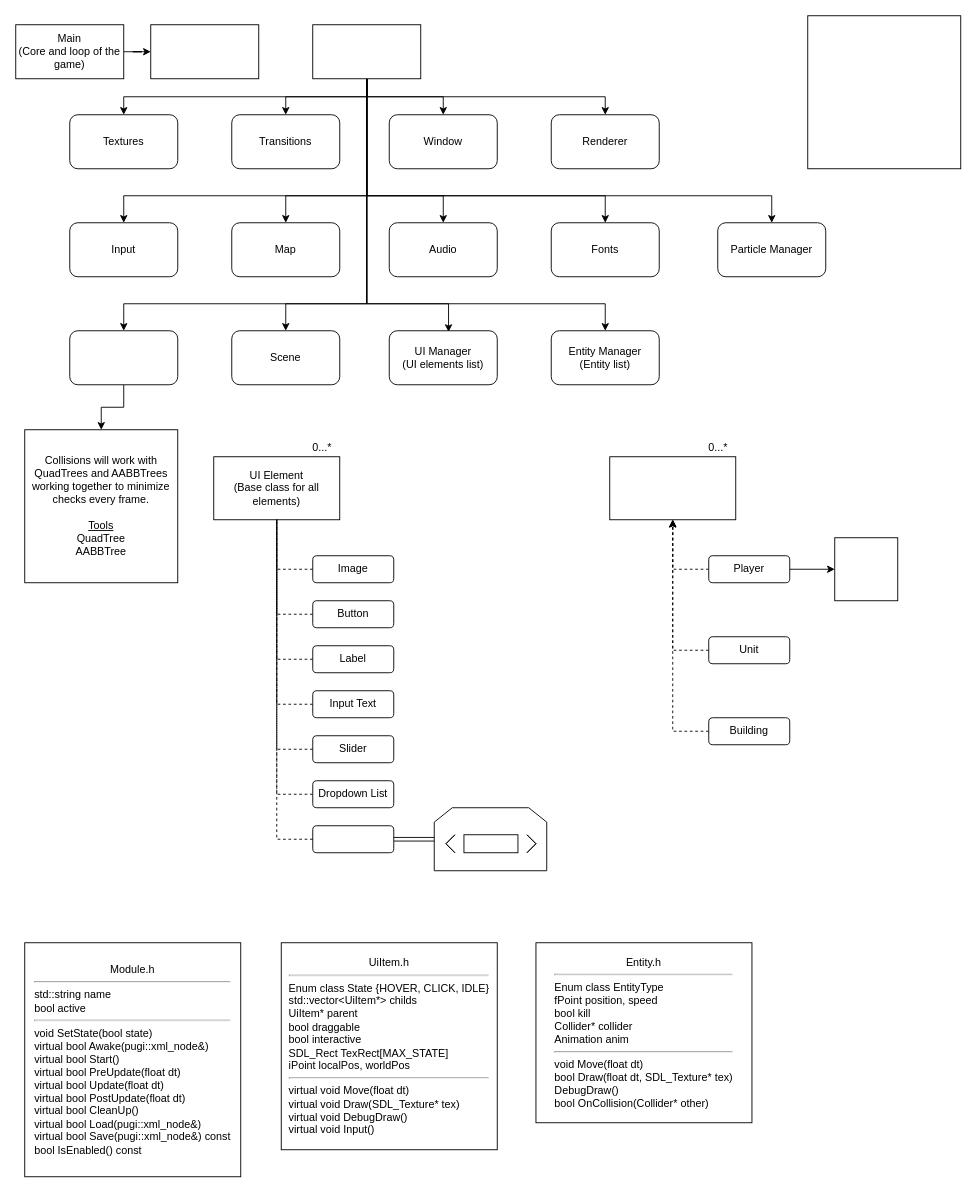
Some shapes in this 977 by 1193 pixel diagram are drawn without their labels. The box of each missing label's shape, as (x1, y1, x2, y2) in pixels:
App (Executes and controlls all modules): (150, 24, 259, 79)
Collision: (69, 330, 178, 385)
Entity (Base class for all entities): (609, 456, 736, 520)
Horitzontal list: (312, 825, 394, 853)
Module Class: (312, 24, 421, 79)
Other tools Animation Timer PerfectTimer DynArray List Point String: (807, 15, 961, 169)
Resource Manager Class: (834, 537, 898, 601)
value: (463, 834, 518, 853)
